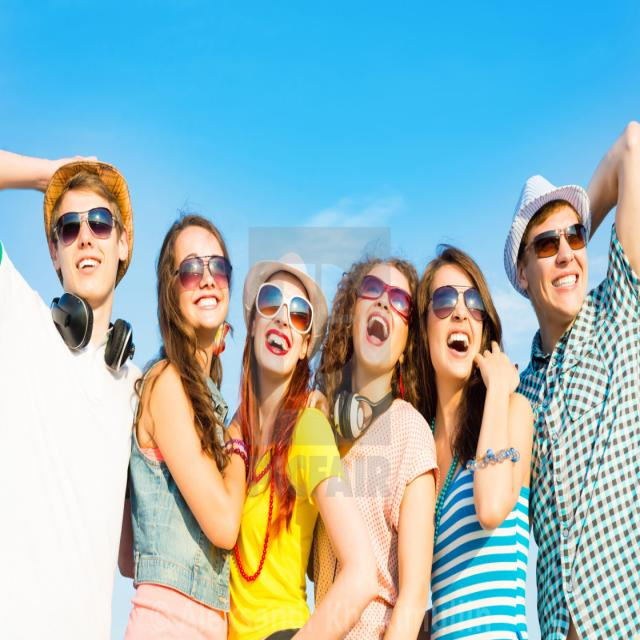hat: (43, 155, 136, 307), (504, 177, 593, 318), (242, 248, 328, 378)
head: (423, 254, 488, 383), (161, 218, 232, 335), (348, 259, 411, 369)
